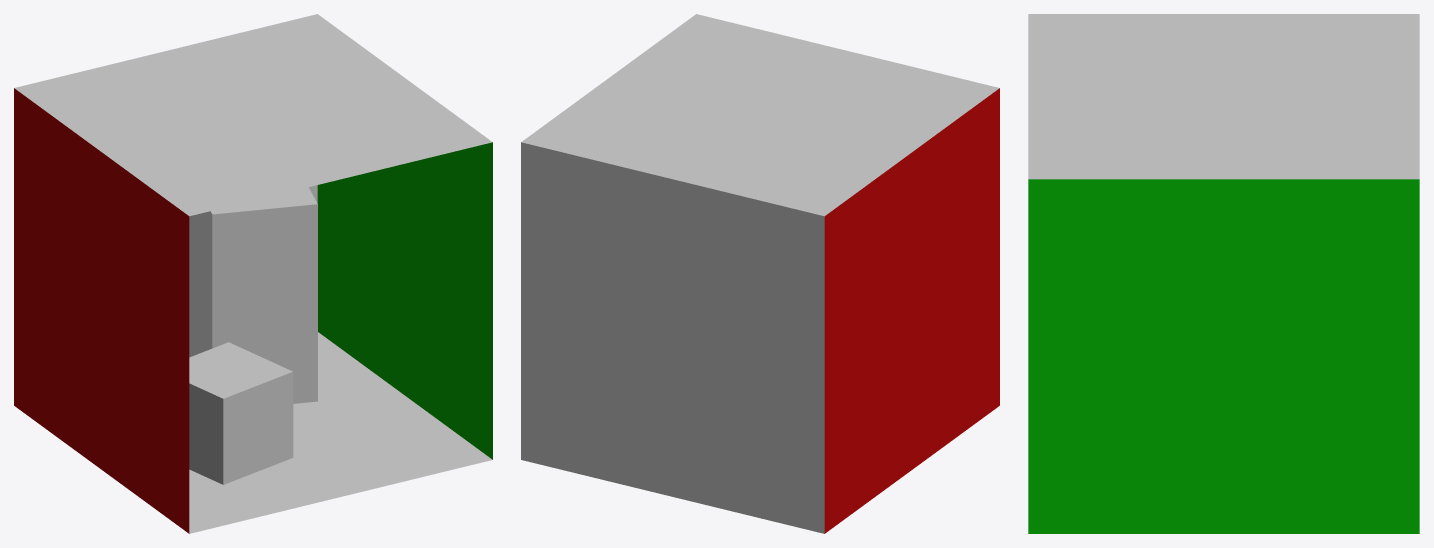
File: room.obj
3 views of the same model, side by side, from view 1: azimuth 30°, elevation 25°; view 2: azimuth 150°, elevation 25°; view 3: azimuth 270°, elevation 25° (orthographic). The views are drawn at different scales.
Visible parts, largest first — view 1: room; view 2: room; view 3: room.
Boxes of the visible parts, left/top/right/bottom form: room: left=14, top=14, right=492, bottom=533; room: left=521, top=14, right=999, bottom=533; room: left=1028, top=14, right=1419, bottom=533.
Size of the model in its own units: 2 by 2 by 2.
